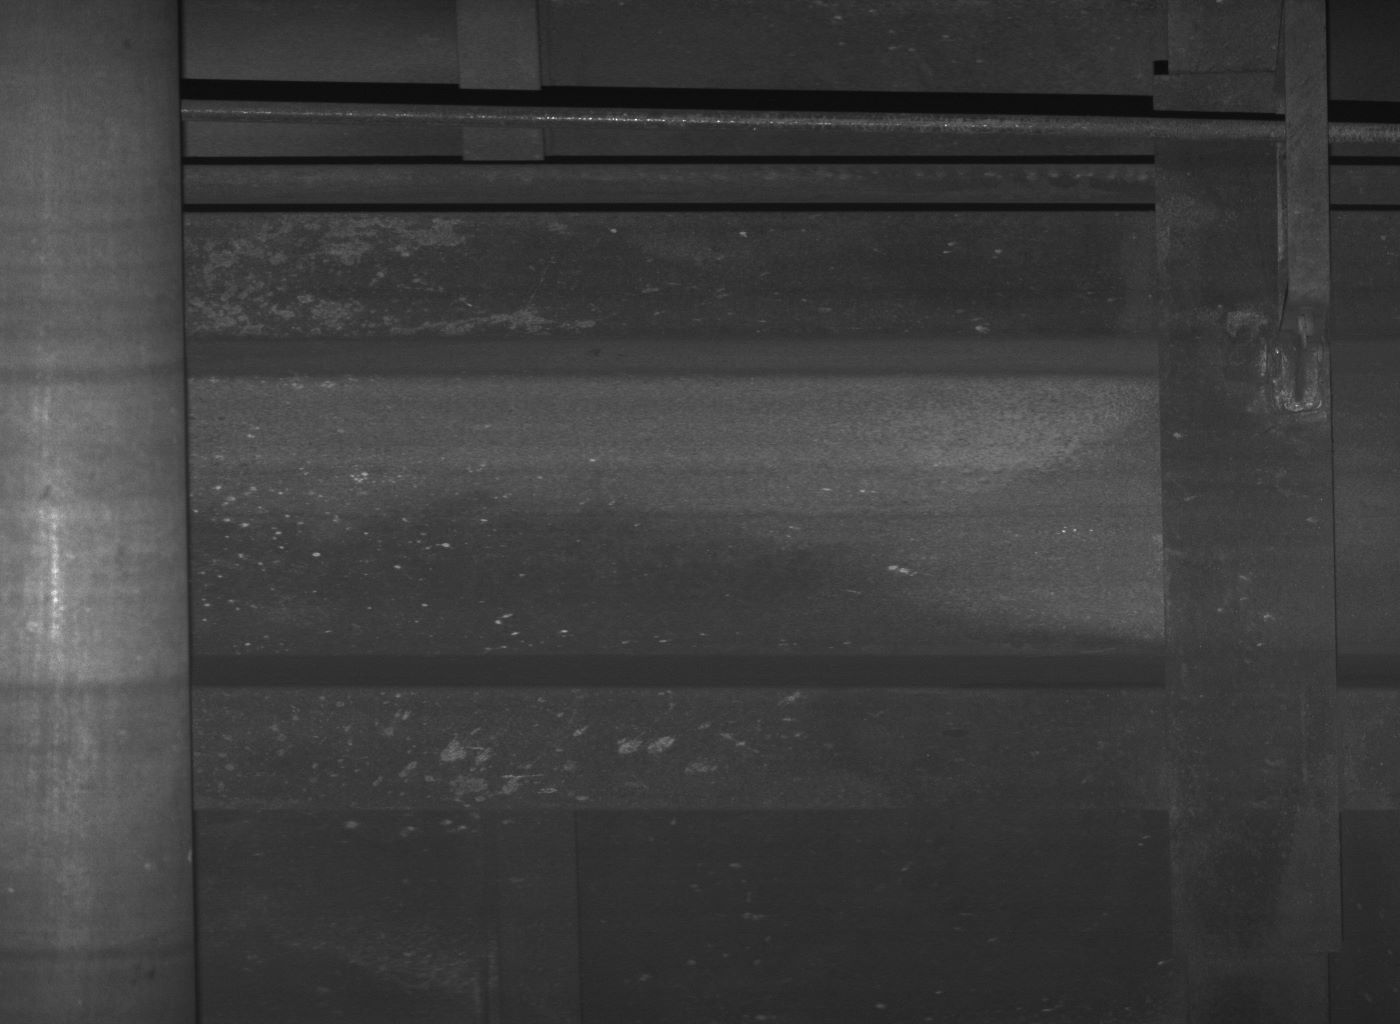normal: (1278, 1, 1329, 341)
